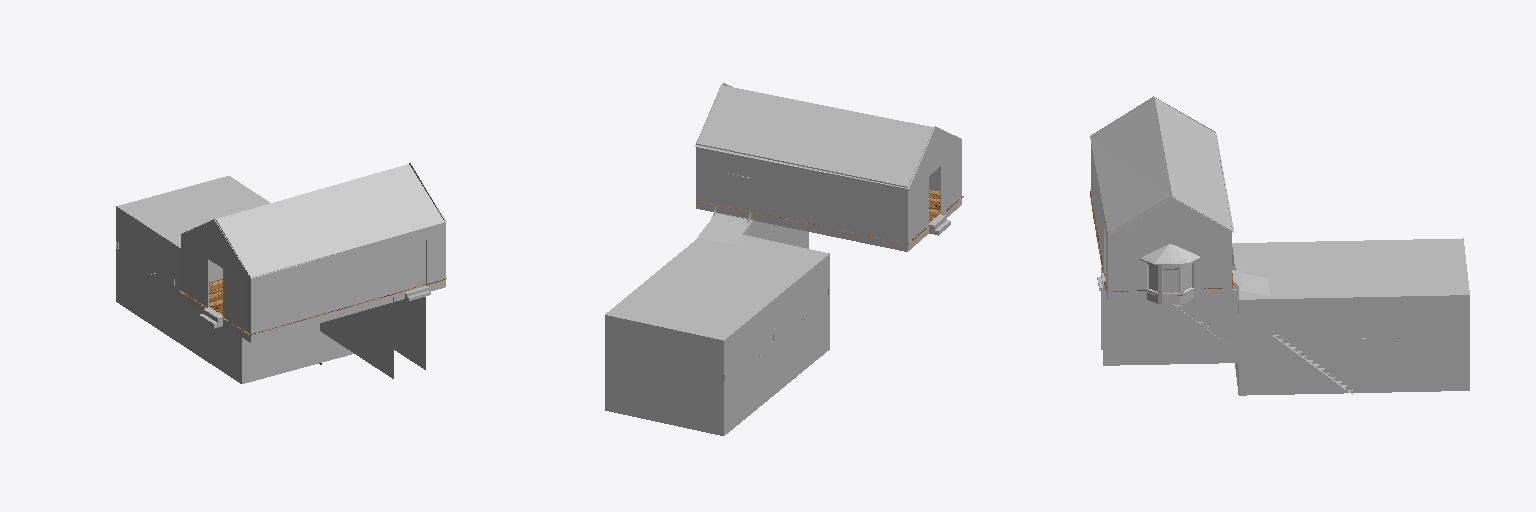
The picture shows the model from 3 angles: view 1: azimuth 30°, elevation 25°; view 2: azimuth 150°, elevation 25°; view 3: azimuth 270°, elevation 25°; orthographic projection.
Parts seen in each view (by area): view 1: House.001, body.001, body.006, body.005, House_Floor.009; view 2: body.001, House.001, body.006, body.007; view 3: body.001, House.001, body.005.
Part boxes in pixels (left/top/right/bottom): House.001: left=181, top=163, right=446, bottom=342; body.001: left=116, top=176, right=353, bottom=383; body.006: left=320, top=297, right=393, bottom=378; body.005: left=394, top=297, right=425, bottom=369; House_Floor.009: left=178, top=279, right=393, bottom=334; body.001: left=605, top=235, right=829, bottom=435; House.001: left=695, top=83, right=961, bottom=251; body.006: left=747, top=212, right=808, bottom=248; body.007: left=698, top=219, right=752, bottom=244; body.001: left=1232, top=238, right=1469, bottom=395; House.001: left=1090, top=96, right=1233, bottom=303; body.005: left=1103, top=281, right=1238, bottom=365.
Size of the model in its own units: 21.26 by 19.46 by 30.75.
43 materials, 10 textured.